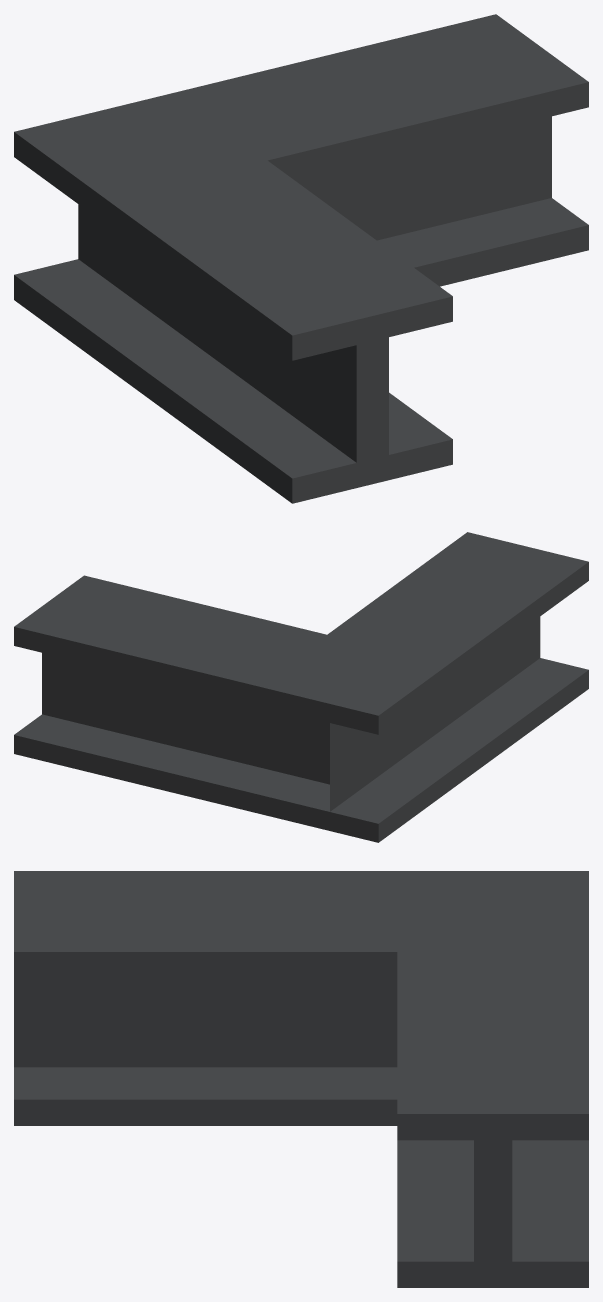
File: T_Träger_Ecke.obj
3 views of the same model, one above another, from view 1: azimuth 30°, elevation 25°; view 2: azimuth 150°, elevation 25°; view 3: azimuth 270°, elevation 25° (orthographic). The views are drawn at different scales.
Parts seen in each view (by area): view 1: T-Träger_4; view 2: T-Träger_4; view 3: T-Träger_4.
Boxes of the visible parts, x1,y1,x2,y2 form: T-Träger_4: (14, 14, 588, 503); T-Träger_4: (14, 532, 588, 842); T-Träger_4: (14, 871, 588, 1287).
Size of the model in its own units: 1.2 by 0.4 by 1.2.
